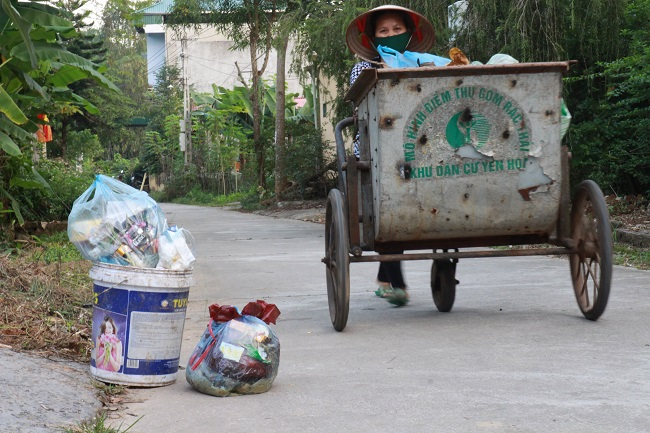plastic bag: (66, 172, 196, 273), (184, 300, 281, 395), (373, 44, 520, 69)
